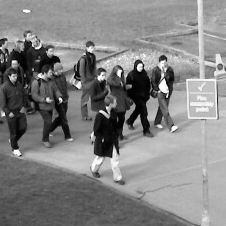person: (91, 95, 126, 183), (32, 65, 61, 149), (1, 67, 28, 156), (126, 59, 155, 138), (151, 54, 178, 131), (52, 62, 76, 141), (77, 39, 99, 120), (89, 67, 109, 142), (110, 64, 129, 142), (3, 59, 28, 87), (28, 34, 45, 62), (41, 44, 61, 67), (8, 38, 28, 58), (23, 27, 34, 46), (1, 35, 9, 60)
